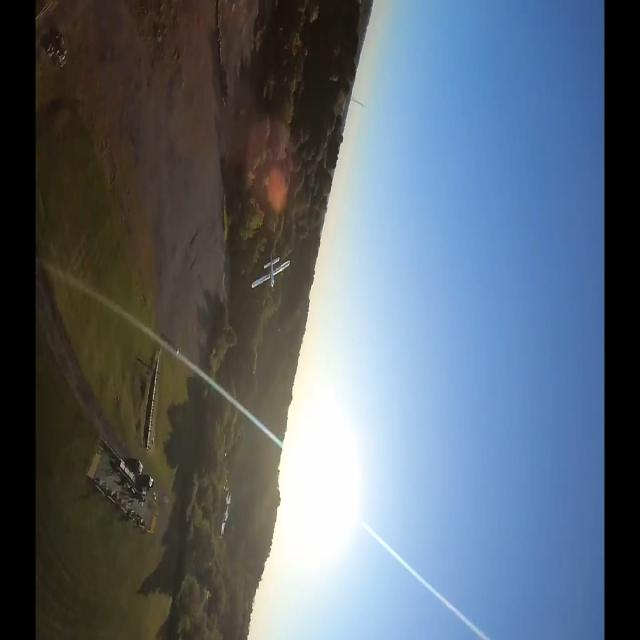iha: (252, 253, 290, 291)
